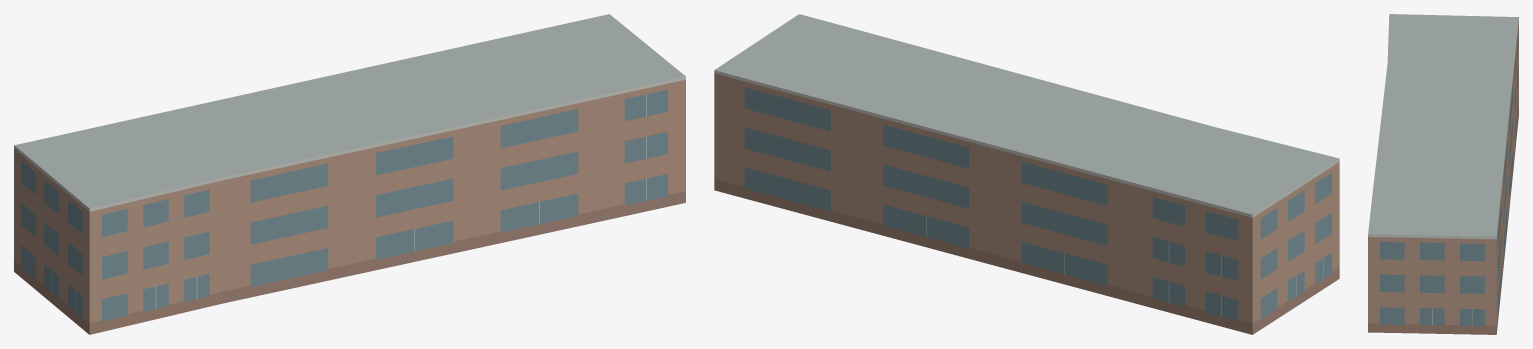
The model's file is survey-upis-32511774.glb.
The picture shows the model from 3 angles, left to right: view 1: azimuth 30°, elevation 25°; view 2: azimuth 150°, elevation 25°; view 3: azimuth 270°, elevation 25°; orthographic projection. The views are drawn at different scales.
Parts seen in each view (by area): view 1: survey-upis-32511774.tmp; view 2: survey-upis-32511774.tmp; view 3: survey-upis-32511774.tmp.
Part boxes in pixels (<box>): survey-upis-32511774.tmp: <box>14,14,685,334</box>; survey-upis-32511774.tmp: <box>714,14,1339,334</box>; survey-upis-32511774.tmp: <box>1368,14,1518,334</box>.
Size of the model in its own units: 44.61 by 9.15 by 12.77.
